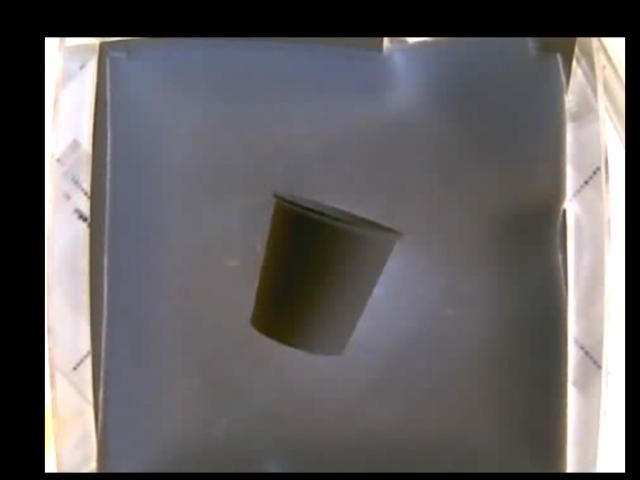Cup: (250, 192, 396, 361)
